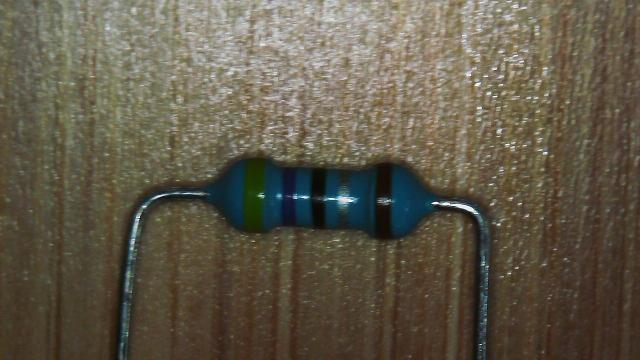black: (310, 168, 327, 228)
brown: (374, 163, 393, 238)
resistor: (210, 146, 437, 248)
silver: (336, 169, 352, 228)
violet: (280, 168, 297, 226)
yellow: (243, 158, 266, 231)
